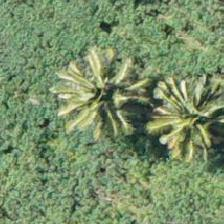coconut_tree: (52, 47, 142, 137), (133, 70, 223, 160)
